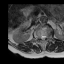CCS_normal: (42, 33, 44, 42)
LFS_stenosis: (46, 33, 48, 39)
LLS_normal: (44, 33, 46, 41)
RFS_normal: (38, 33, 40, 40)
RLS_normal: (40, 33, 42, 41)
